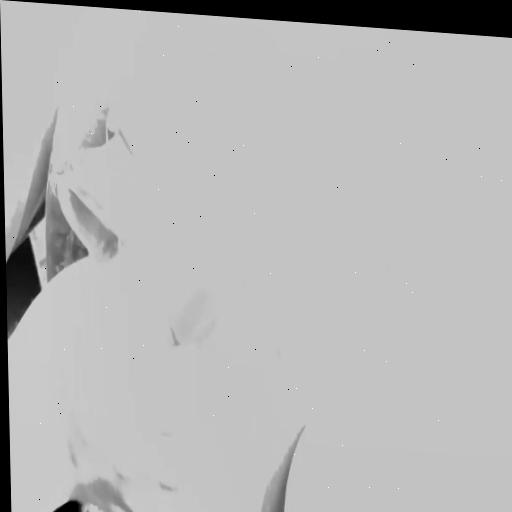cafe_xay: (48, 95, 241, 346)
